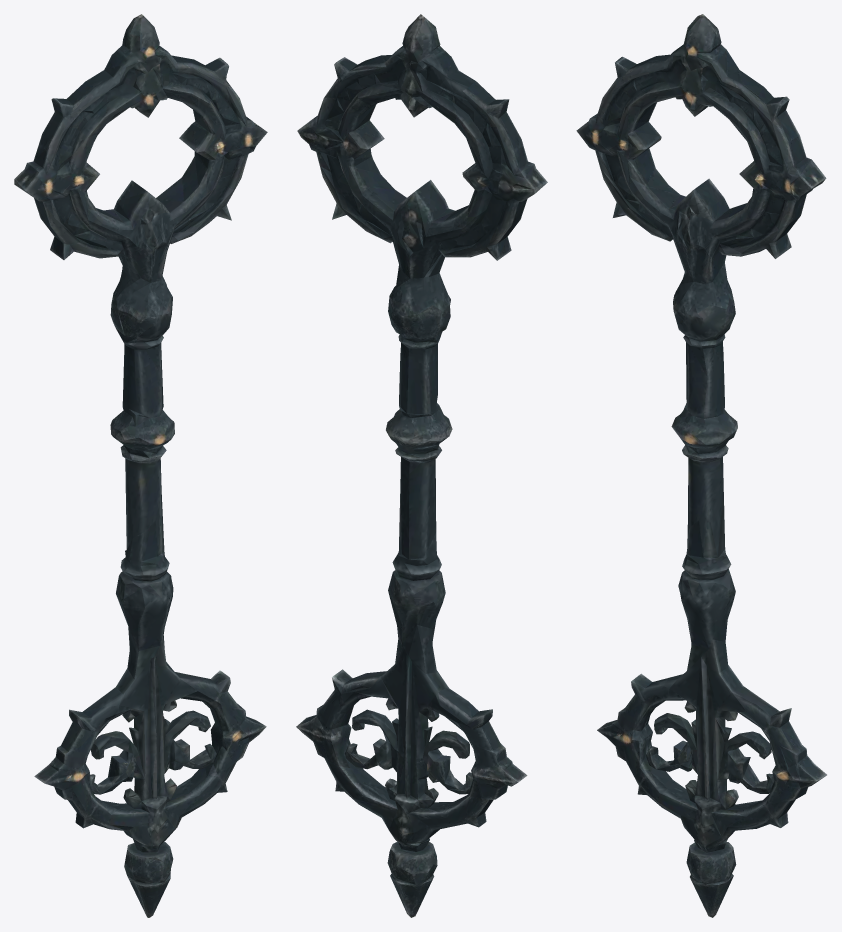
The model's file is chiave.glb.
3 views of the same model, side by side, from view 1: azimuth 30°, elevation 25°; view 2: azimuth 150°, elevation 25°; view 3: azimuth 330°, elevation 25° (orthographic).
Size of the model in its own units: 0.5306 by 1.9 by 0.1276.
Materials: 1 (1 with a texture image).
